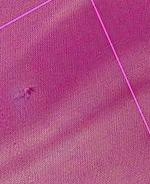knot: (16, 84, 38, 103)
